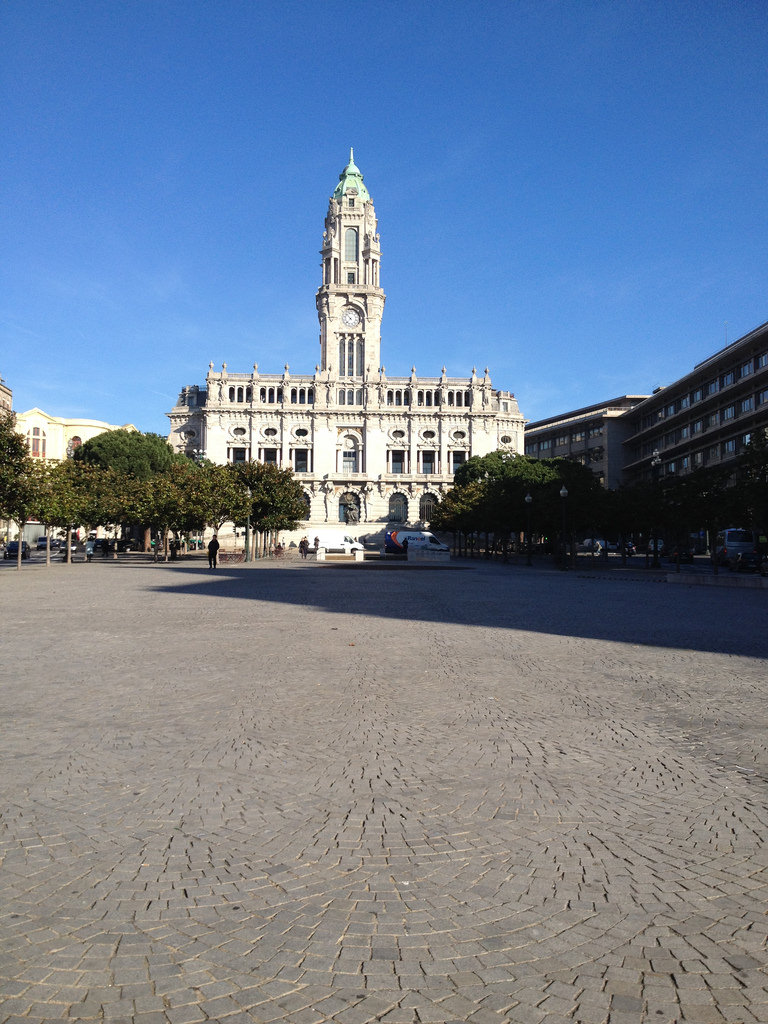camara: (163, 141, 528, 539)
